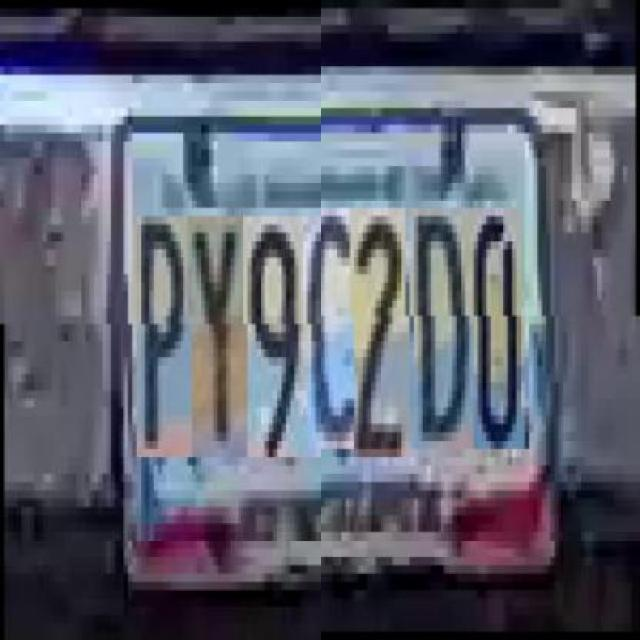0: (474, 215, 524, 457)
2: (355, 217, 410, 466)
9: (248, 215, 308, 457)
c: (308, 215, 363, 457)
d: (414, 215, 474, 457)
p: (137, 215, 192, 457)
y: (191, 215, 247, 457)
